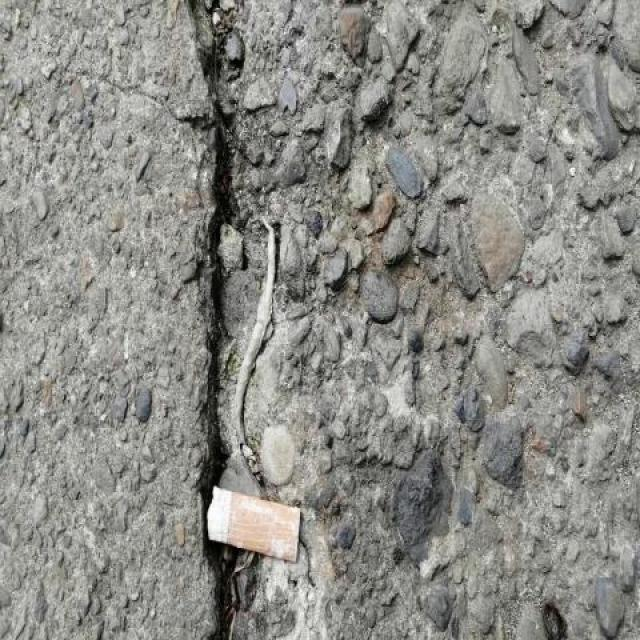non-organic waste: (204, 485, 308, 567)
